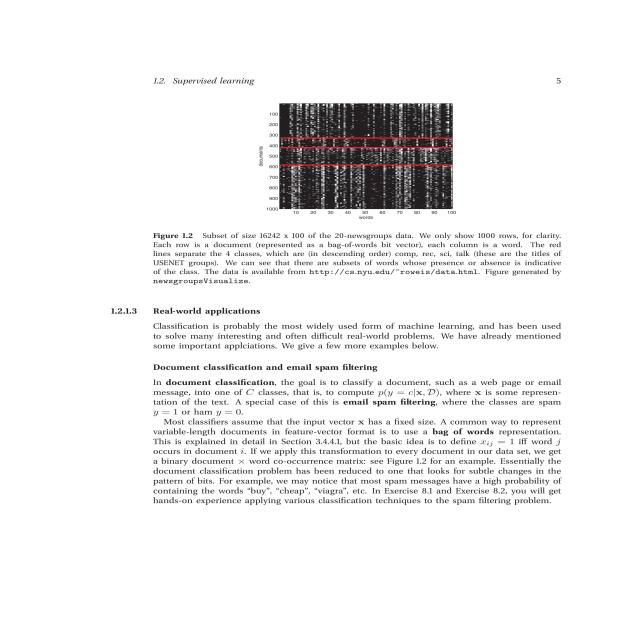diagram: (111, 89, 640, 297)
